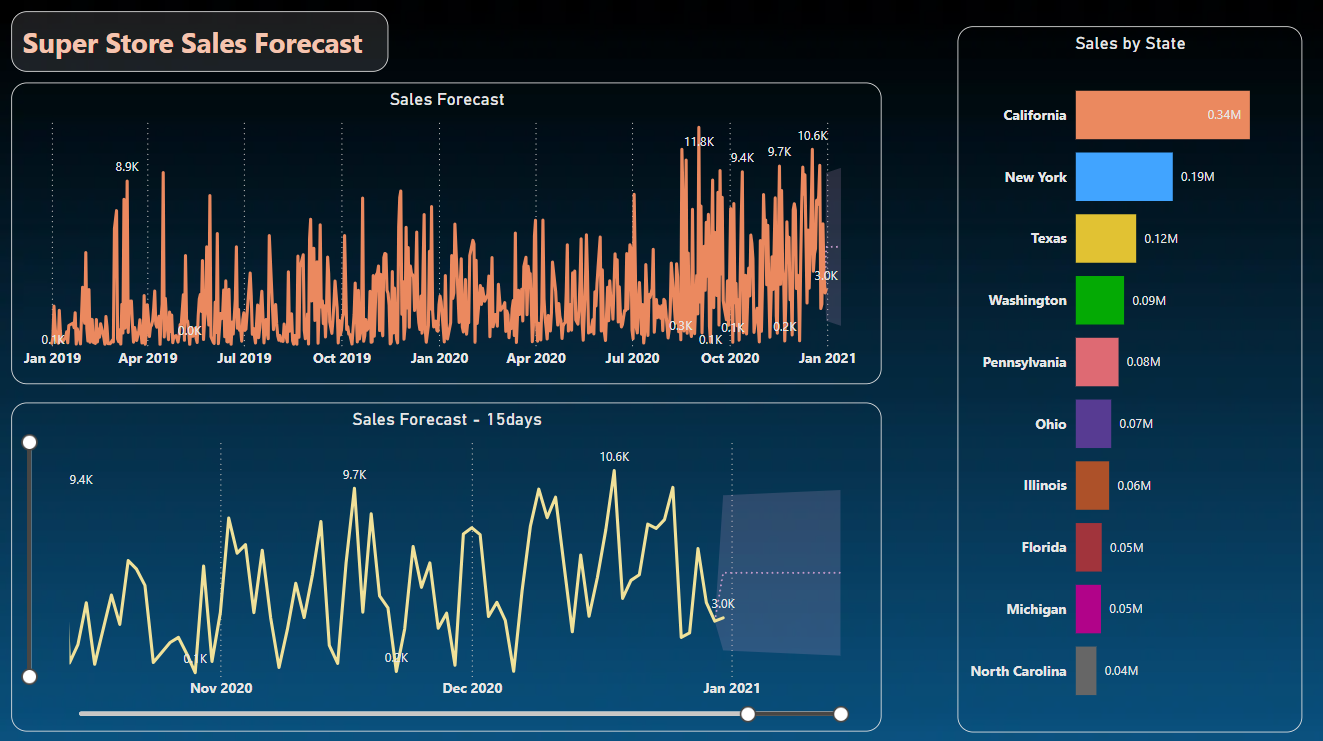

Layout of this report page (visuals, bound fields, positions):
{"tool":"powerbi","page":{"name":"Forecast","canvas":[1280,720],"ordinal":1},"visuals":[{"type":"lineChart","title":"Sales Forecast","fields":{"Y":["Sum(SuperStore Sales DataSet.Sales)"],"Category":["SuperStore Sales DataSet.Order Date"]},"box":[11.2,80,840,291.2],"z":0},{"type":"lineChart","title":"Sales Forecast - 15days","fields":{"Y":["Sum(SuperStore Sales DataSet.Sales)"],"Category":["SuperStore Sales DataSet.Order Date"]},"box":[11.2,388.8,840,317.5],"z":1000},{"type":"clusteredBarChart","title":"Sales by State","fields":{"Category":["SuperStore Sales DataSet.State"],"Y":["Sum(SuperStore Sales DataSet.Sales)"]},"box":[923.8,25,332.5,681.2],"z":2000},{"type":"textbox","box":[11.2,11.2,363.8,58.8],"z":3000}]}

Visuals, with their boxes in screenshot pixels (x1, y1, x2, y2), scaled from the page's 1280x720 canvas onto the 1323x741 screenshot:
"Sales Forecast" lineChart: bbox=(12, 82, 880, 382)
"Sales Forecast - 15days" lineChart: bbox=(12, 400, 880, 727)
"Sales by State" clusteredBarChart: bbox=(955, 26, 1299, 727)
textbox: bbox=(12, 12, 388, 72)
